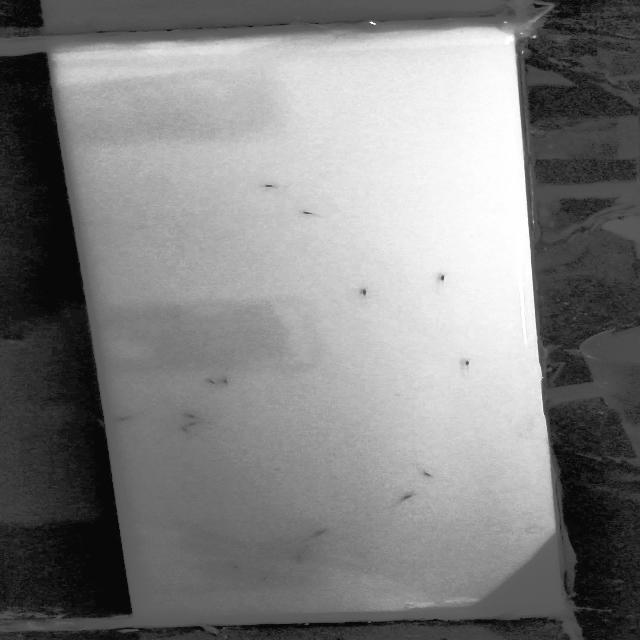shrimp: (430, 268, 456, 288), (113, 413, 140, 429), (307, 529, 331, 545), (255, 178, 282, 192), (394, 491, 423, 503), (176, 422, 198, 437), (356, 282, 374, 300), (176, 418, 212, 427), (287, 549, 307, 565), (294, 206, 323, 217), (206, 375, 228, 388), (224, 562, 243, 576), (215, 377, 238, 388), (178, 410, 202, 420), (260, 569, 278, 582), (421, 471, 445, 480), (460, 356, 474, 369)
